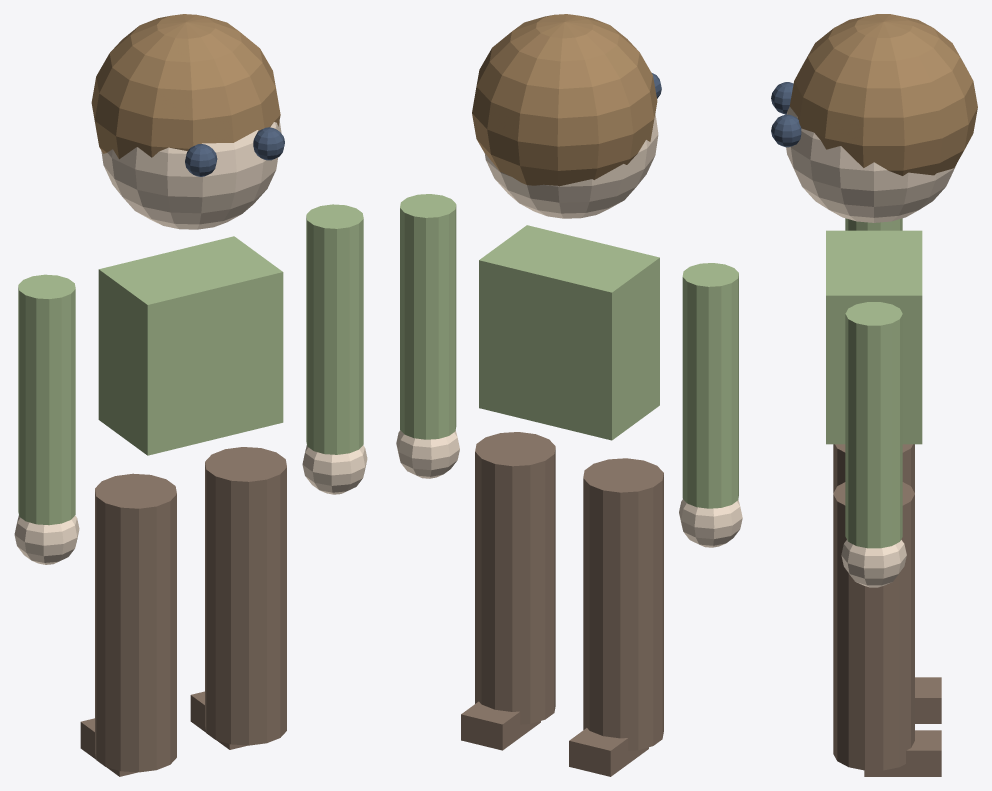
The model's file is MiloBoy.fbx.
3 views of the same model, side by side, from view 1: azimuth 30°, elevation 25°; view 2: azimuth 150°, elevation 25°; view 3: azimuth 270°, elevation 25° (orthographic).
Parts seen in each view (by area): view 1: MiloBoy; view 2: MiloBoy; view 3: MiloBoy.
Boxes of the visible parts, box(x1,y1,x2,y2) form: MiloBoy: box(14, 14, 367, 776); MiloBoy: box(396, 14, 742, 776); MiloBoy: box(771, 14, 977, 776).
Size of the model in its own units: 80.93 by 164 by 42.95.
